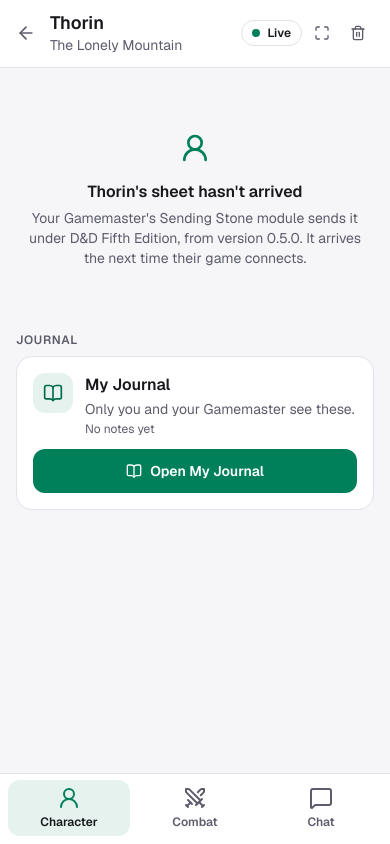
it: components/game-table/game-table › opens on the character otherwise, and switches tabs
Click the button "Chat".
click(321, 808)  # box 260,780 -> 382,836
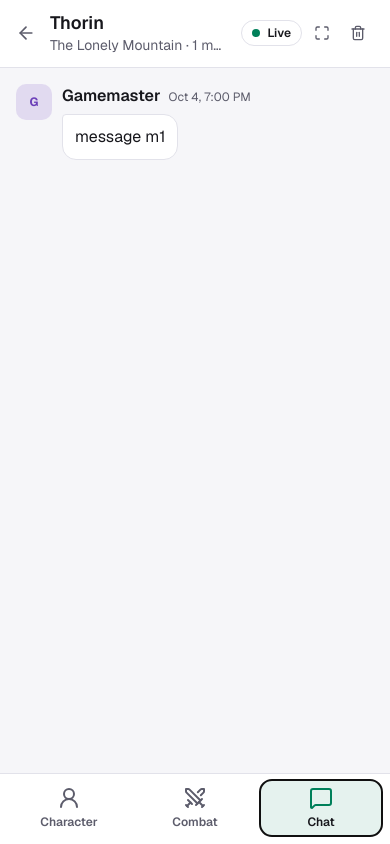
expect the text "The Lonely Mountain · 1 message" is shown: met, box 50,34 -> 228,54
expect the text "message m1" is shown: met, box 62,114 -> 178,160
Click the button "Combat".
click(195, 808)  # box 134,780 -> 256,836
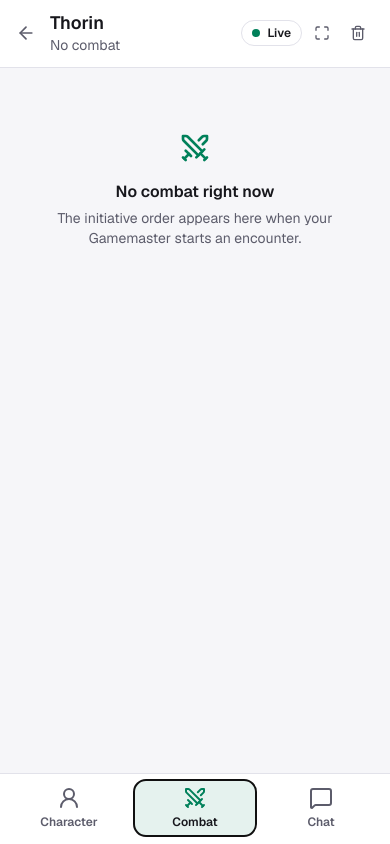
expect the text "No combat" is shown: met, box 50,34 -> 120,54
expect the heading "No combat right now" is shown: met, box 116,180 -> 274,204
